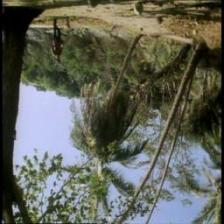monkey: (64, 21, 72, 31)
